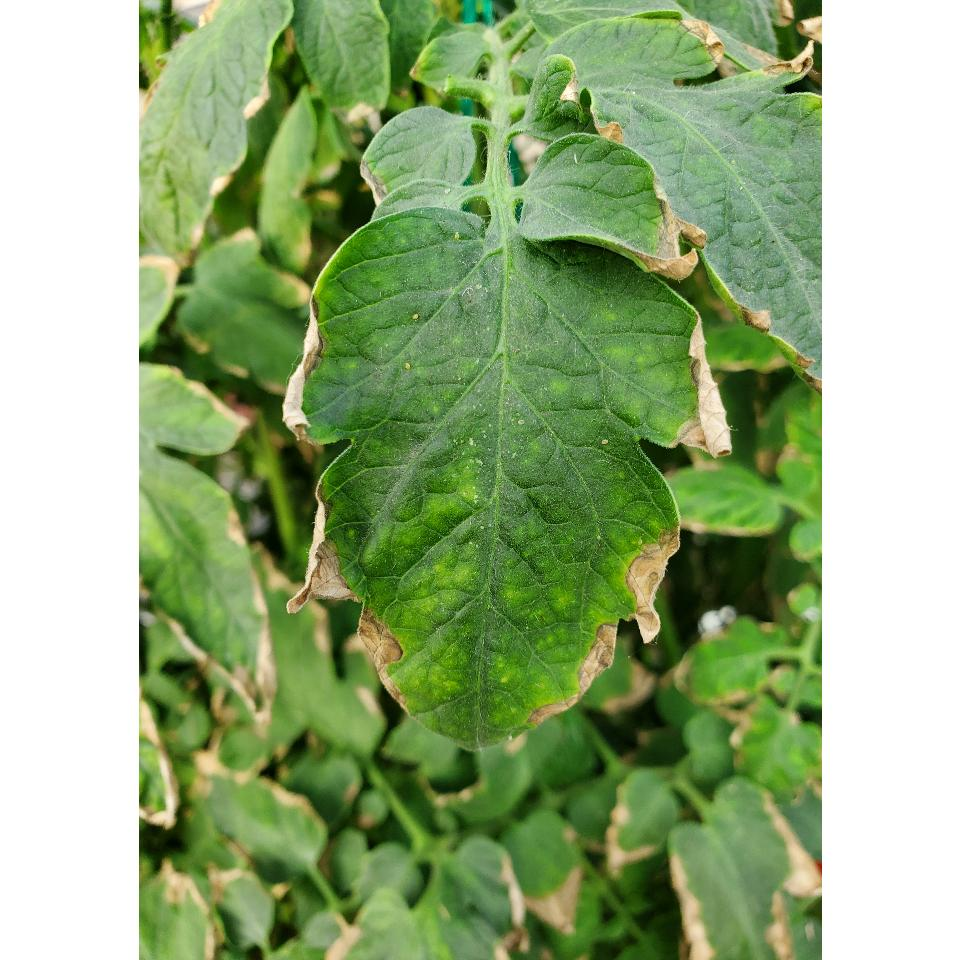tomato_bacterial_blight: (279, 312, 721, 742), (526, 124, 720, 298)
